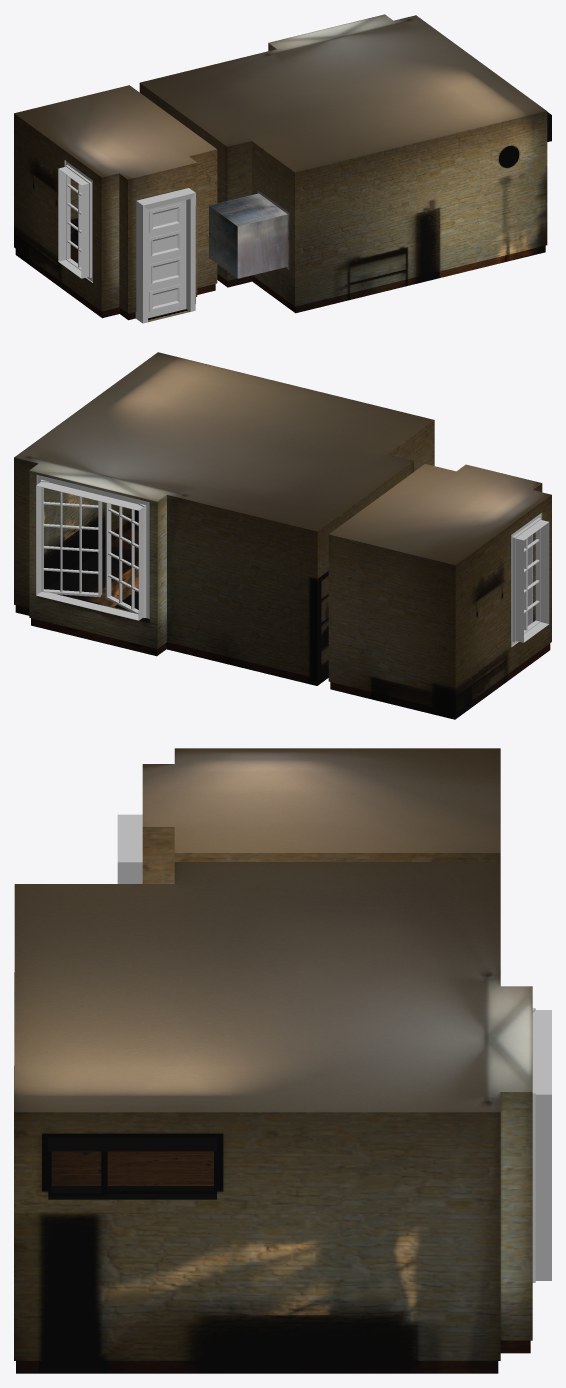
The model's file is Room.obj.
3 views of the same model, one above another, from view 1: azimuth 30°, elevation 25°; view 2: azimuth 150°, elevation 25°; view 3: azimuth 270°, elevation 25° (orthographic). The views are drawn at different scales.
Visible parts, largest first — view 1: Room, Safe, Door1, Window1, Door1_Frame; view 2: Room, Window2, Window1, Door1_Frame; view 3: Room, Window3, Window2, Door1_Frame.
Part boxes in pixels (x1,y1,x2,y2): Room: (14, 14, 547, 322); Safe: (209, 190, 289, 278); Door1: (148, 200, 186, 318); Window1: (58, 160, 92, 282); Door1_Frame: (135, 188, 195, 323); Room: (14, 352, 551, 719); Window2: (36, 475, 149, 622); Window1: (511, 512, 549, 647); Door1_Frame: (527, 534, 532, 625); Room: (14, 748, 532, 1373); Window3: (42, 1133, 223, 1199); Window2: (532, 1008, 551, 1282); Door1_Frame: (117, 814, 142, 883).
Bounding box in the file's own units: 8.5 × 2.7 × 5.02.
